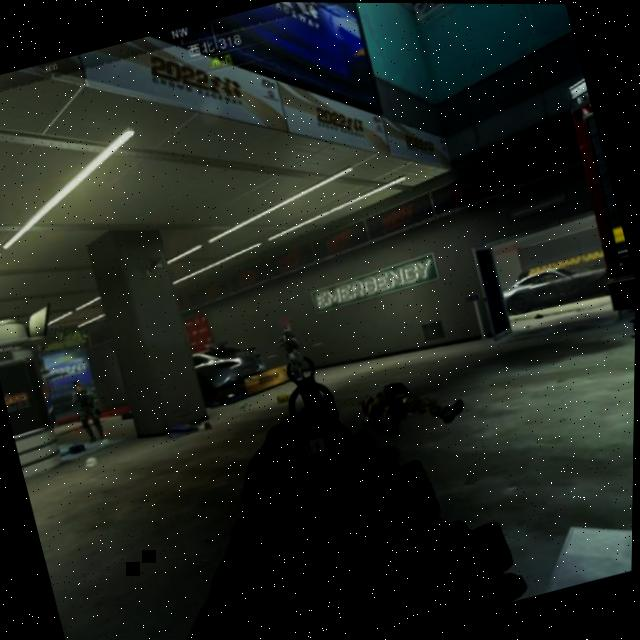MW2_body: (67, 379, 109, 445), (273, 314, 310, 380)
